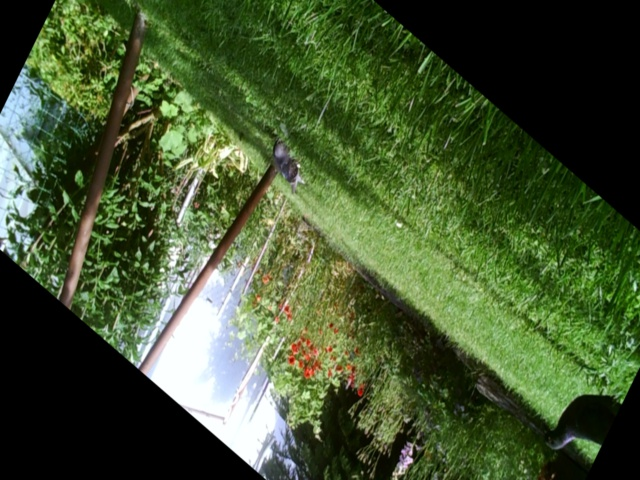Pigeon: (271, 137, 308, 195)
